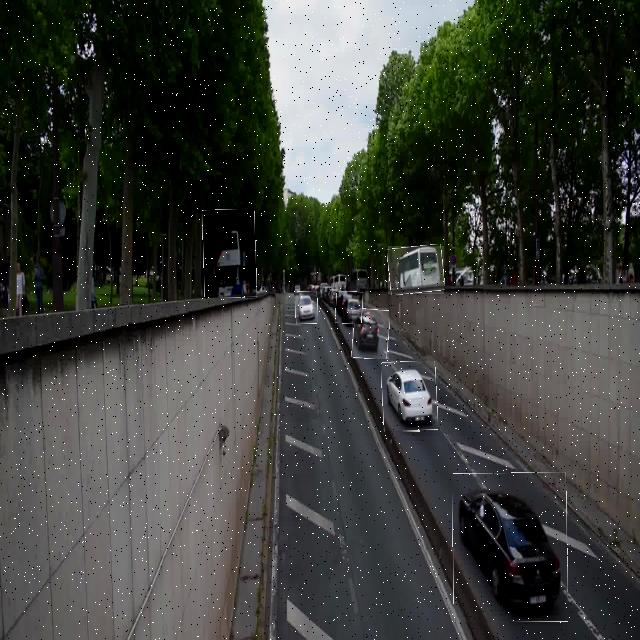Bus: (204, 209, 256, 298), (388, 246, 444, 294)
Car: (452, 473, 568, 622), (382, 362, 438, 432), (352, 308, 389, 359), (336, 292, 362, 324), (296, 292, 318, 324)
